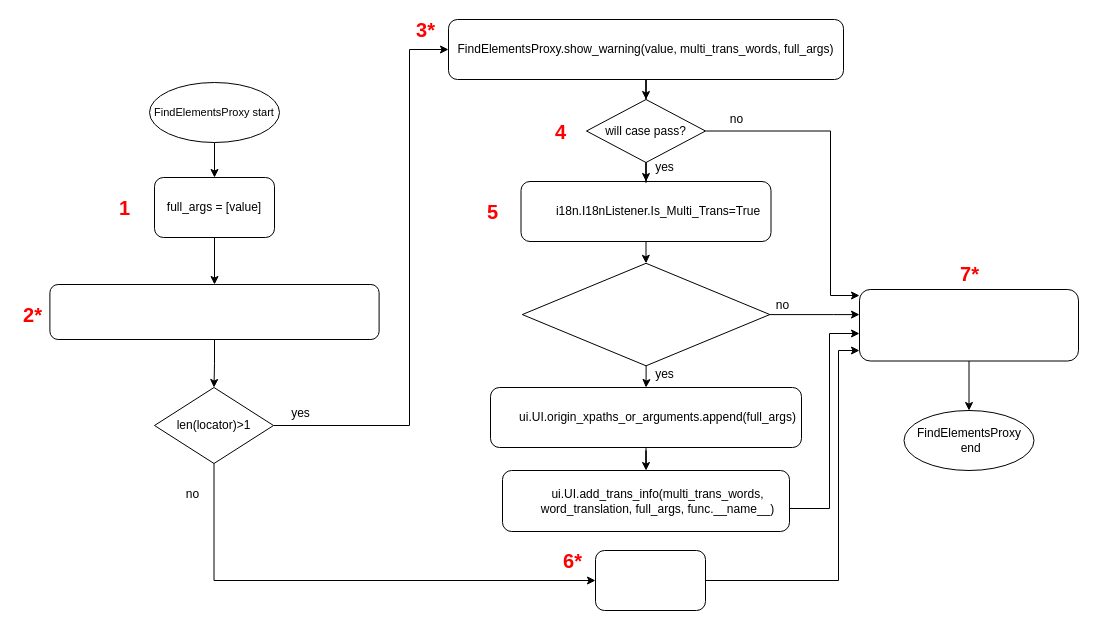
Some shapes in this 1096 by 628 pixel diagram are drawn without their labels. Here are the shapes that lost their labels. From the top down, the box of each, then its label:
(49, 284, 379, 340): locator= i18n.I18nListener.MAP.locator(value, full_args)
(521, 262, 770, 366): str(full_args)+multi_trans_words[0] not in ui.UI.unique_log
(858, 288, 1078, 361): return func(by, BuiltIn().replace_variables(xpath))
(594, 550, 706, 610): xpath= locator[0]
